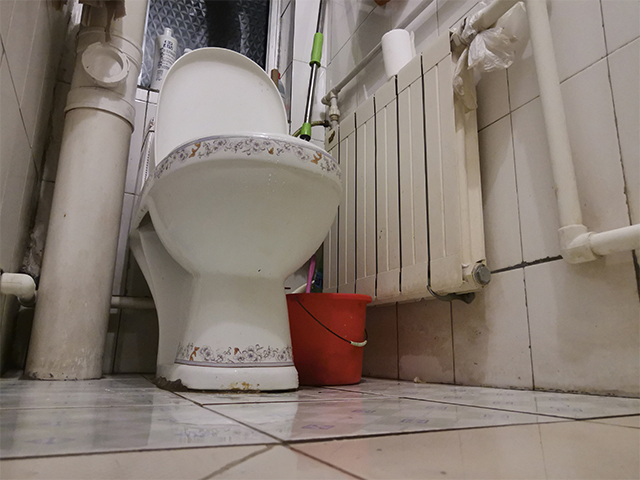closestool: (125, 44, 347, 396)
